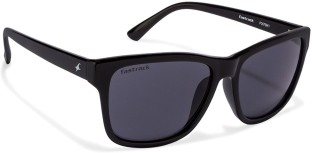sunglasses: (3, 8, 311, 138)
